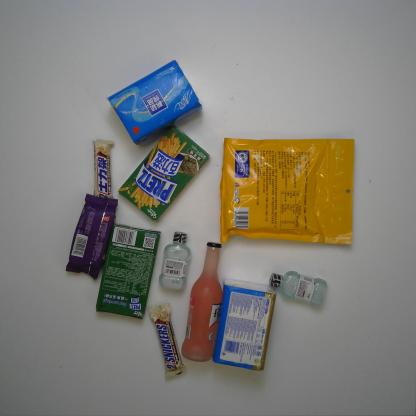Alcohol: (178, 240, 225, 362)
Chocolate: (147, 301, 188, 379), (90, 138, 116, 200)
Dessert: (117, 124, 211, 222), (94, 223, 162, 320), (65, 191, 119, 282)
Dried Fruit: (219, 136, 356, 248)
Personal Hygiene: (157, 231, 193, 293), (268, 271, 328, 306)
Tissue: (106, 58, 203, 146), (212, 279, 277, 373)
